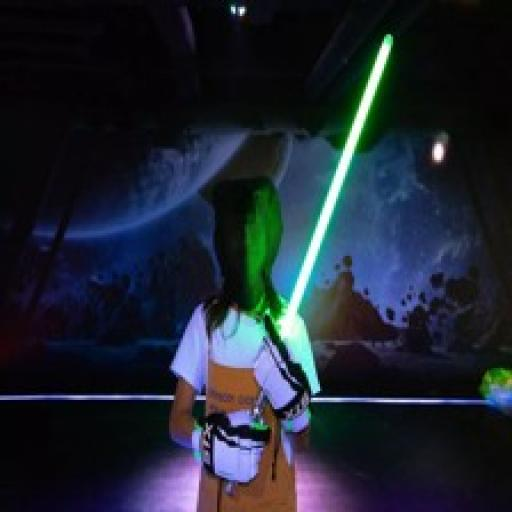human: (169, 171, 322, 512)
lightsaber: (219, 24, 398, 498)
